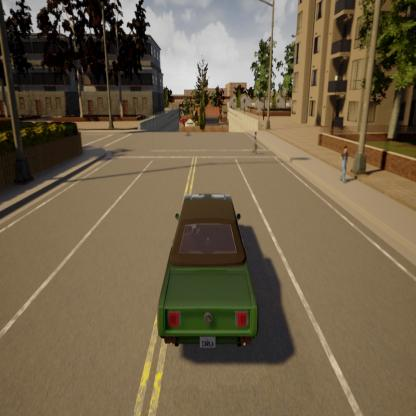Cars: (149, 186, 269, 367)
Pedestrian: (336, 139, 355, 191), (251, 126, 263, 159)
